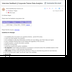

What the dashboard file says about the page in this screenshot:
{"tool":"powerbi","page":{"name":"Page 1","canvas":[1280,720],"ordinal":0},"visuals":[{"type":"group","id":"g1","title":"Group 2","box":[321.7,0,943.3,249.2],"z":0},{"type":"cardVisual","fields":{"Data":["Course.Total Courses"]},"box":[321.9,0,237.7,124.9],"z":0,"group":"g1"},{"type":"slicer","fields":{"Values":["Trainer.TrainerName"]},"box":[34.3,174.2,279.7,150],"z":0,"group":"g2"},{"type":"cardVisual","fields":{"Data":["Course.Total Mocks"]},"box":[549.9,0,238.4,124.9],"z":1000,"group":"g1"},{"type":"textbox","box":[25.4,36.9,296.2,50.9],"z":1000},{"type":"slicer","fields":{"Values":["Course.CourseName"]},"box":[34.3,339.5,279.7,255.5],"z":1000,"group":"g2"},{"type":"cardVisual","fields":{"Data":["Course.Trainer-Course Validated"]},"box":[788.3,0,238.4,124.9],"z":2000,"group":"g1"},{"type":"group","id":"g2","title":"Group 1","box":[34.3,174.2,279.7,507.3],"z":2000},{"type":"slicer","fields":{"Values":["TrainerCourseMapping.MappingStatus"]},"box":[34.3,610.3,279.7,71.2],"z":2000,"group":"g2"},{"type":"cardVisual","fields":{"Data":["Course.Avg Mocks per Trainer-Course"]},"box":[1026.7,0,238.4,124.9],"z":3000,"group":"g1"},{"type":"pivotTable","fields":{"Rows":["Trainer.TrainerName","Course.CourseName"],"Values":["Course.Total Mocks","Course.Latest Activity Type","Course.Latest Mock Summary"]},"box":[338.2,249.2,942.1,443.7],"z":3000},{"type":"cardVisual","fields":{"Data":["Course.Latest Mock Rating"]},"box":[321.7,124.6,943.3,124.6],"z":4000,"group":"g1"}]}

Visuals, with their boxes on the page's 1280x720 design canvas (x1, y1, x2, y2). These are canvas units, not pixel positions in the 72x72 screenshot, which may show the page scaled, cropped or inside an application window:
"Group 2" group: (322,0,1265,249)
cardVisual - Course.Total Courses: (322,0,560,125)
slicer - Trainer.TrainerName: (34,174,314,324)
cardVisual - Course.Total Mocks: (550,0,788,125)
textbox: (25,37,322,88)
slicer - Course.CourseName: (34,340,314,595)
cardVisual - Course.Trainer-Course Validated: (788,0,1027,125)
"Group 1" group: (34,174,314,682)
slicer - TrainerCourseMapping.MappingStatus: (34,610,314,682)
cardVisual - Course.Avg Mocks per Trainer-Course: (1027,0,1265,125)
pivotTable - Trainer.TrainerName x Course.CourseName: (338,249,1280,693)
cardVisual - Course.Latest Mock Rating: (322,125,1265,249)
